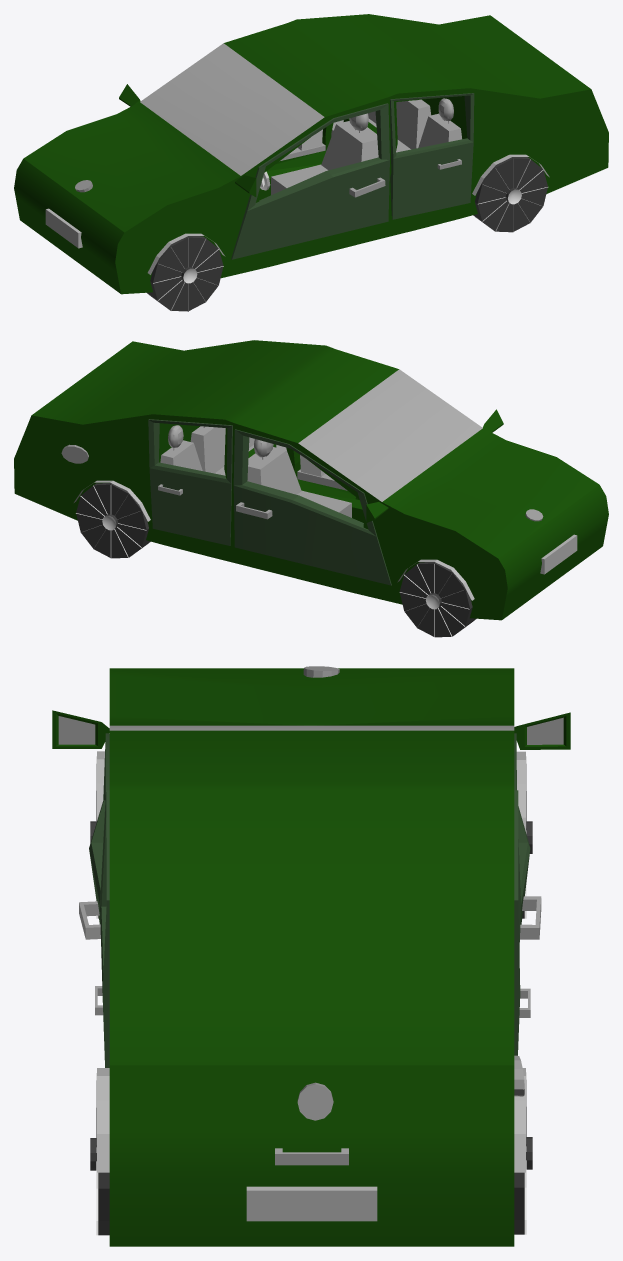
Rendered from Car.fbx.
3 renders of one model, top to bottom at view 1: azimuth 30°, elevation 25°; view 2: azimuth 150°, elevation 25°; view 3: azimuth 270°, elevation 25°, orthographic. The views are drawn at different scales.
Parts seen in each view (by area): view 1: polySurface50, polySurface62, tire, Sitplace, polySurface4; view 2: polySurface50, polySurface62, tire, Sitplace, polySurface4, polySurface63; view 3: polySurface50, polySurface62, polySurface20, tire, polySurface14, polySurface54, polySurface53, polySurface48.
Part boxes in pixels (box(x1,y1,x2,y2)): polySurface50: box(14, 14, 608, 294); polySurface62: box(231, 93, 474, 259); tire: box(146, 157, 548, 311); Sitplace: box(271, 98, 461, 194); polySurface4: box(45, 208, 82, 248); polySurface50: box(14, 340, 608, 620); polySurface62: box(148, 419, 391, 585); tire: box(76, 483, 476, 637); Sitplace: box(160, 425, 351, 517); polySurface4: box(540, 534, 577, 574); polySurface63: box(61, 444, 88, 463); polySurface50: box(52, 668, 570, 1246); polySurface62: box(89, 733, 530, 1067); polySurface20: box(246, 1186, 377, 1221); tire: box(90, 756, 532, 1235); polySurface14: box(97, 1068, 109, 1172); polySurface54: box(275, 1148, 348, 1165); polySurface53: box(297, 1082, 333, 1120); polySurface48: box(514, 1068, 525, 1172).
Bounding box in the file's own units: 8.84 × 2.77 × 3.97.
